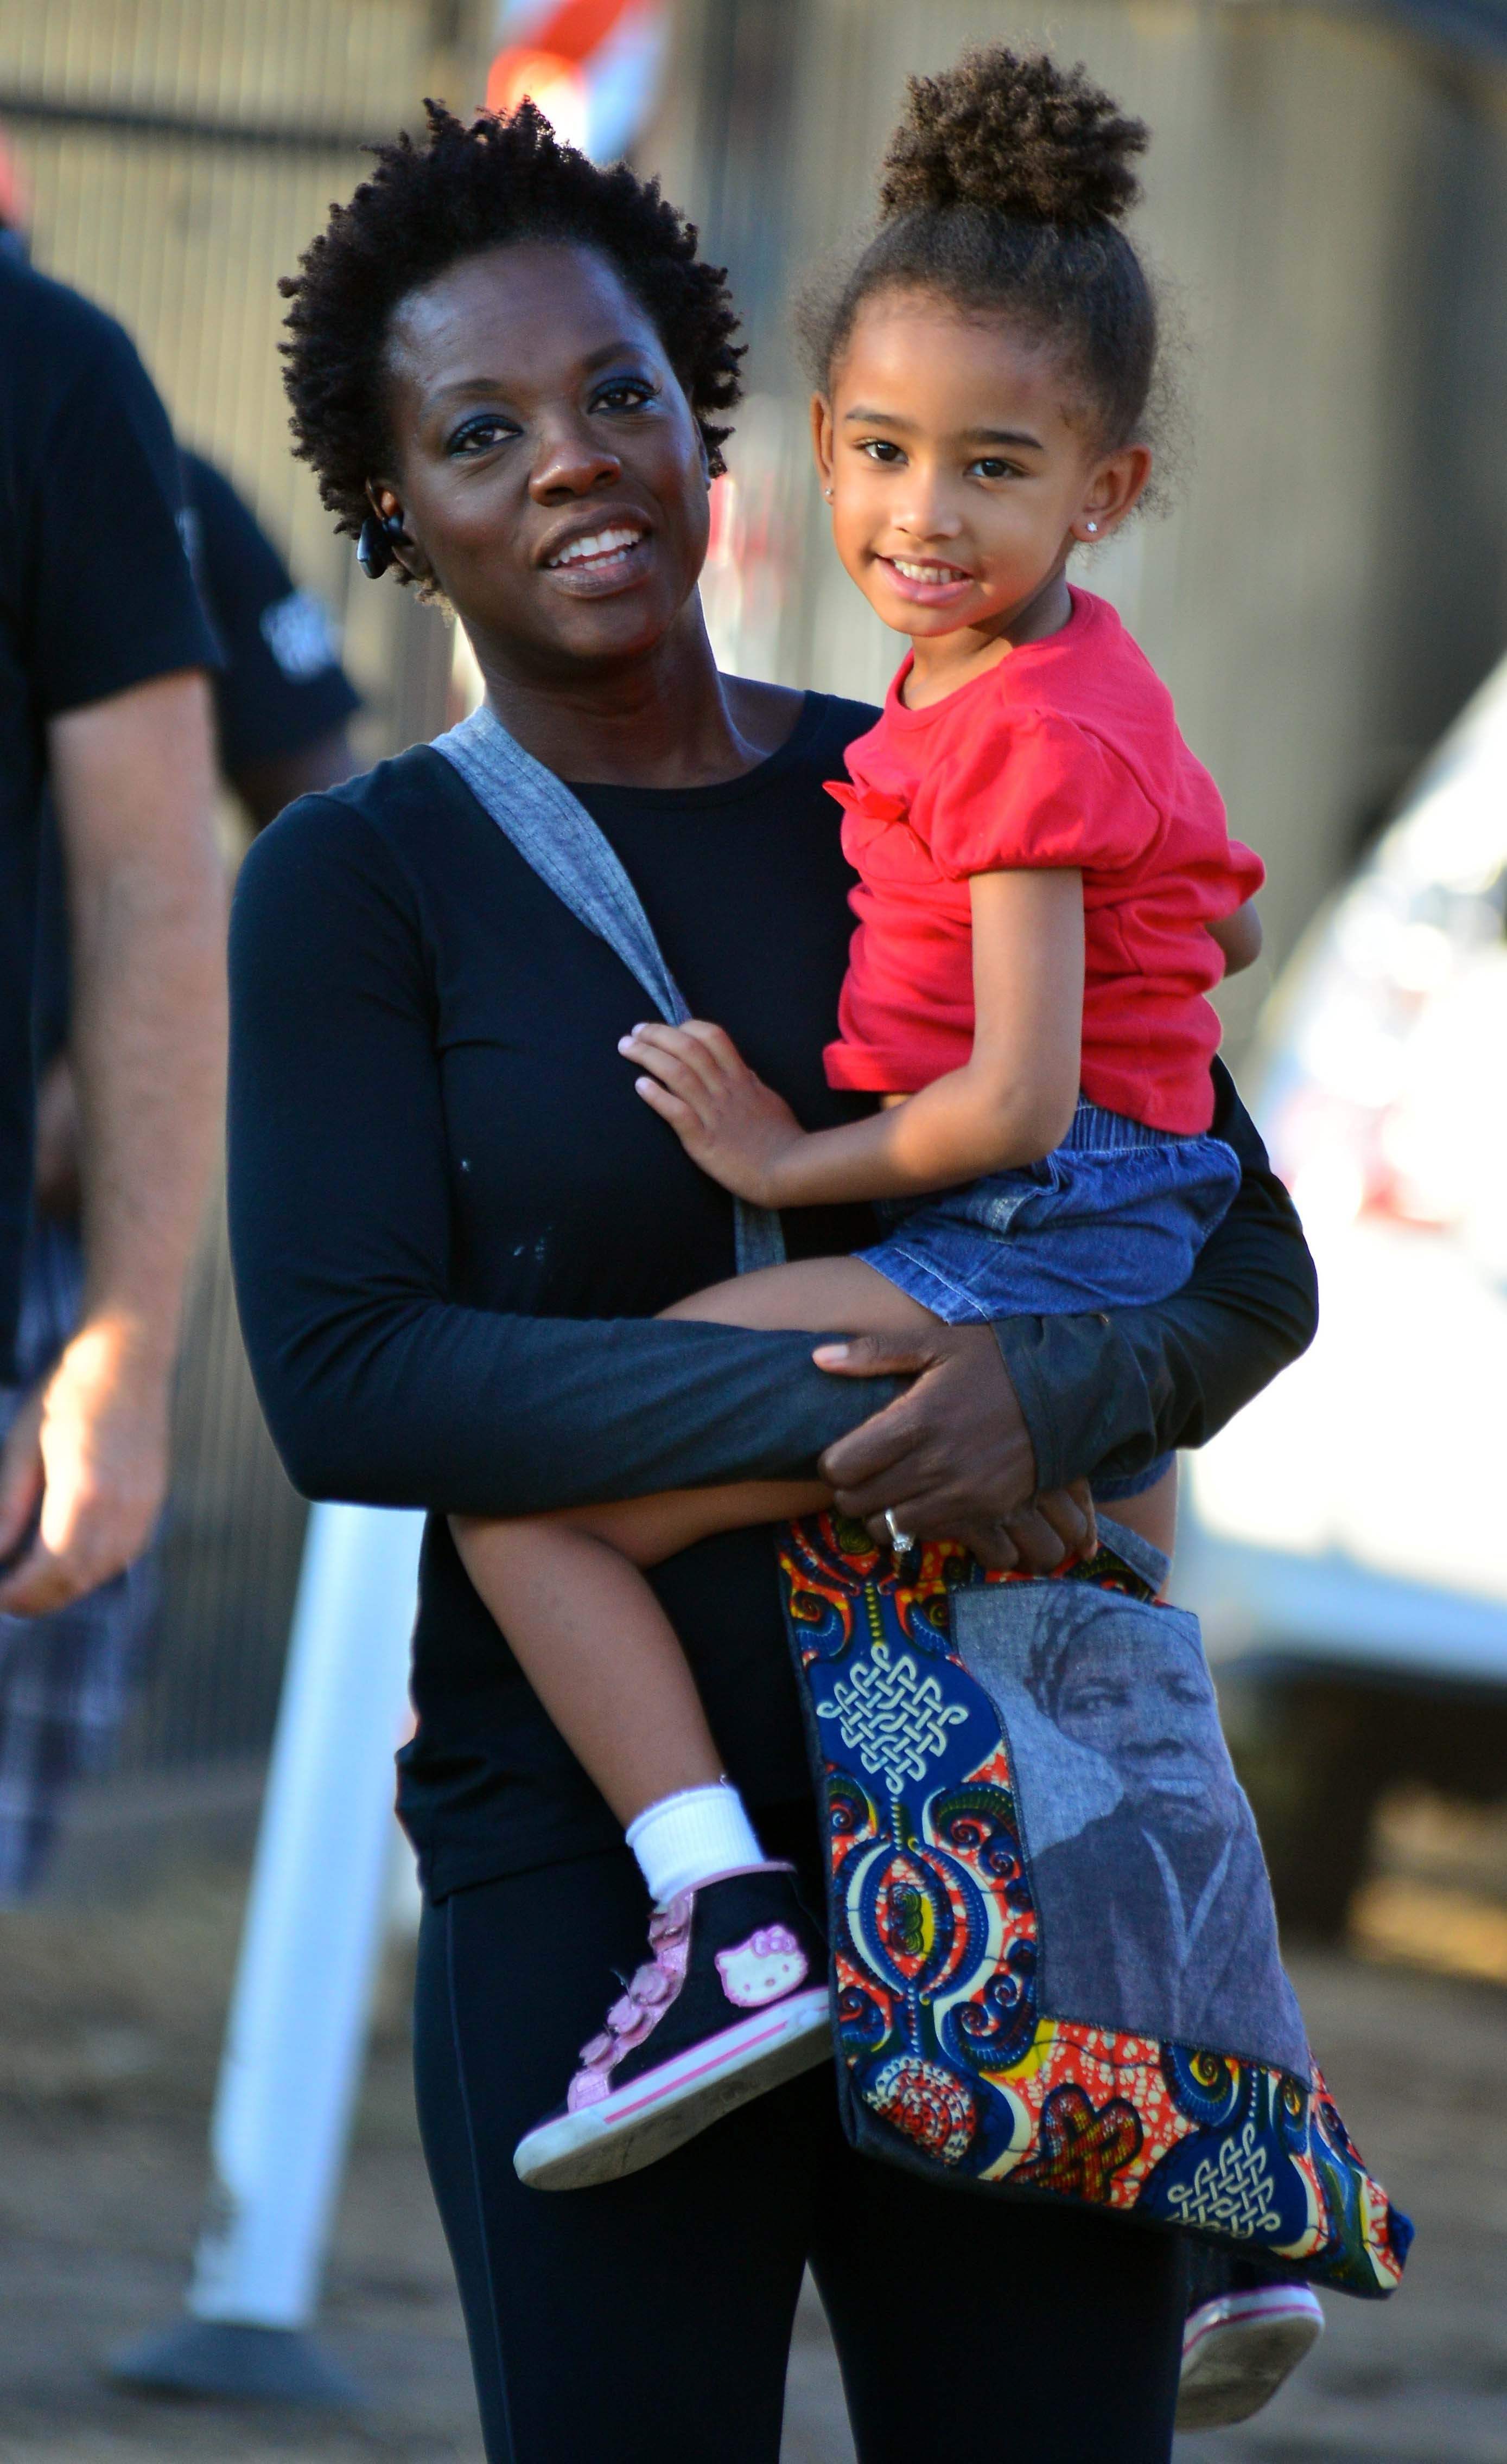face_no_mask: (284, 175, 735, 661), (826, 220, 1160, 643)
